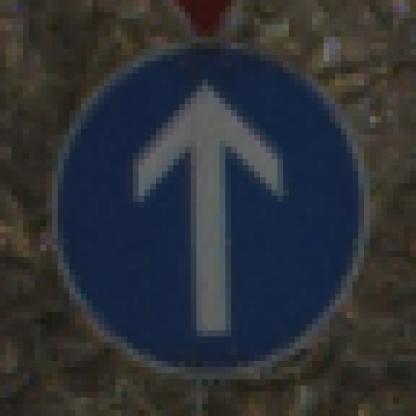AheadOnly: (42, 38, 383, 380)
